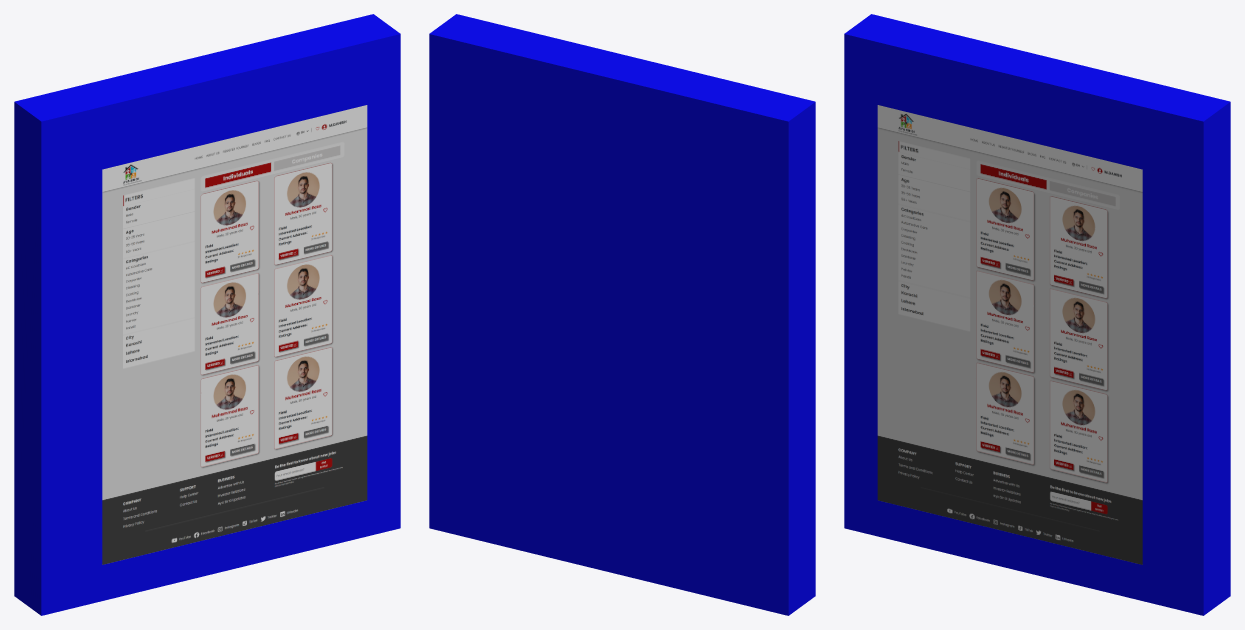
3 views of the same model, side by side, from view 1: azimuth 30°, elevation 25°; view 2: azimuth 150°, elevation 25°; view 3: azimuth 330°, elevation 25° (orthographic).
Visible parts, largest first — view 1: PhotoPlane, PhotoBorder; view 2: PhotoBorder; view 3: PhotoPlane, PhotoBorder.
Part boxes in pixels (x1,y1,x2,y2): PhotoPlane: (102, 105, 367, 564); PhotoBorder: (14, 14, 400, 615); PhotoBorder: (429, 14, 815, 615); PhotoPlane: (877, 105, 1142, 564); PhotoBorder: (844, 14, 1230, 615).
Size of the model in its own units: 3.8 by 5 by 0.75.
2 materials, 1 textured.
